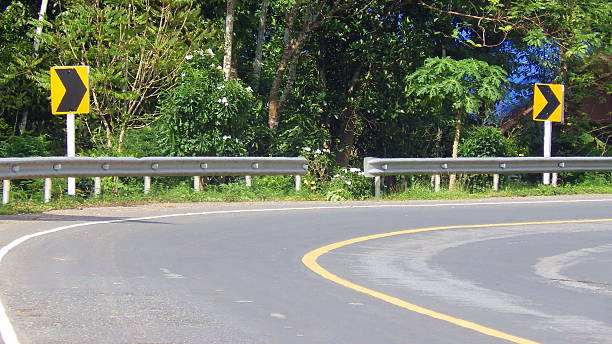rightTrun: (17, 171, 516, 344)
